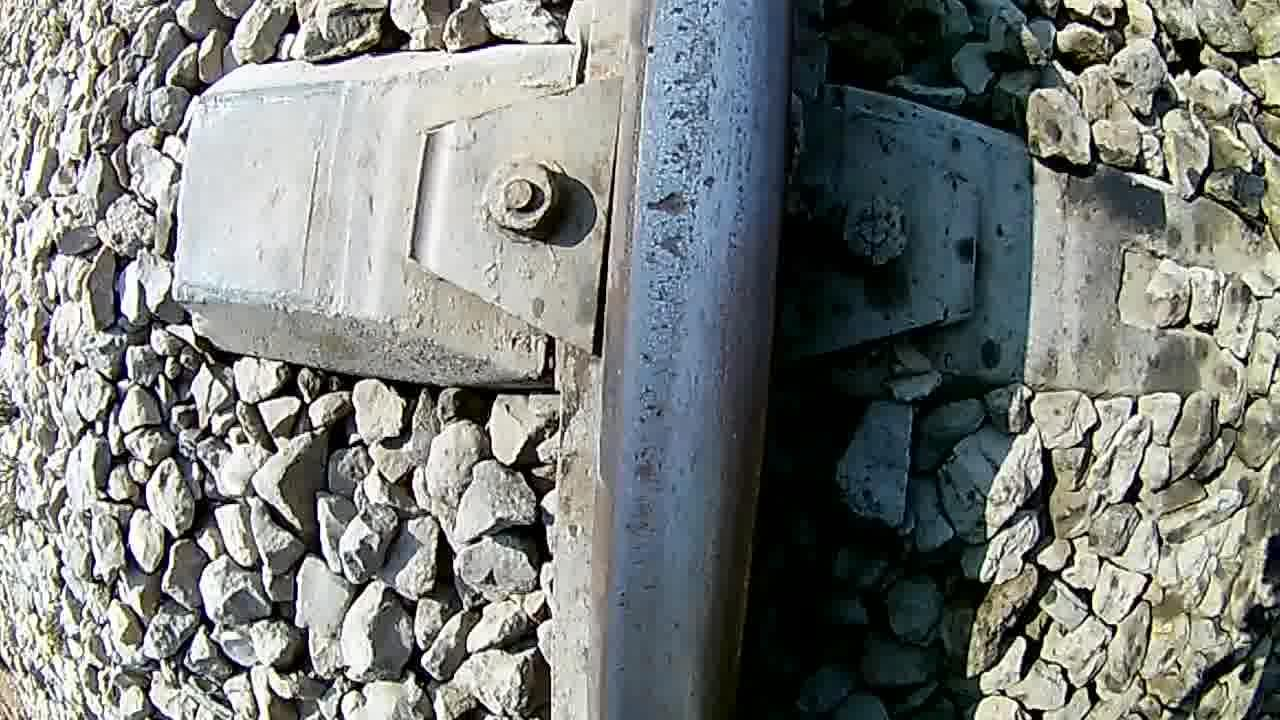crack: (607, 0, 780, 720)
